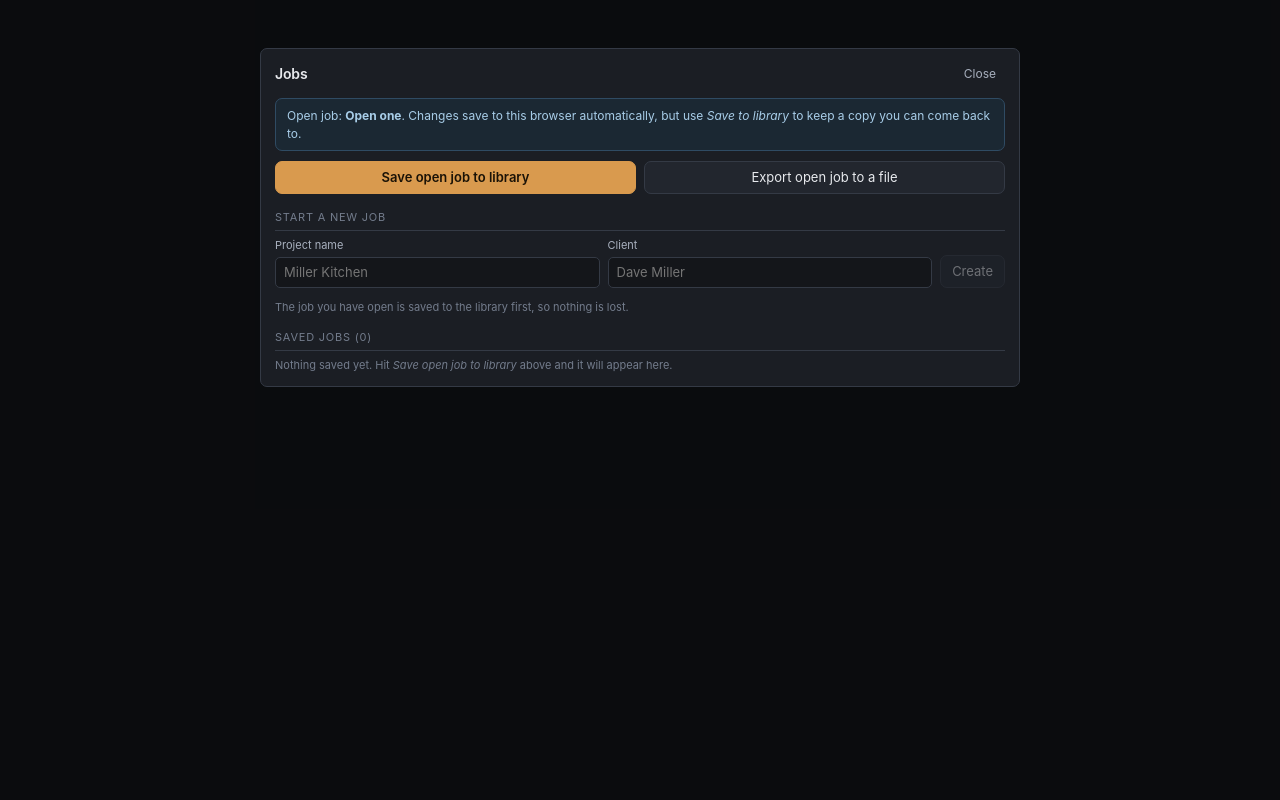
it: JobsPanel › marks the job that is currently open
Click the button "Save open job to library" at (456, 178), box [275, 161, 636, 194]
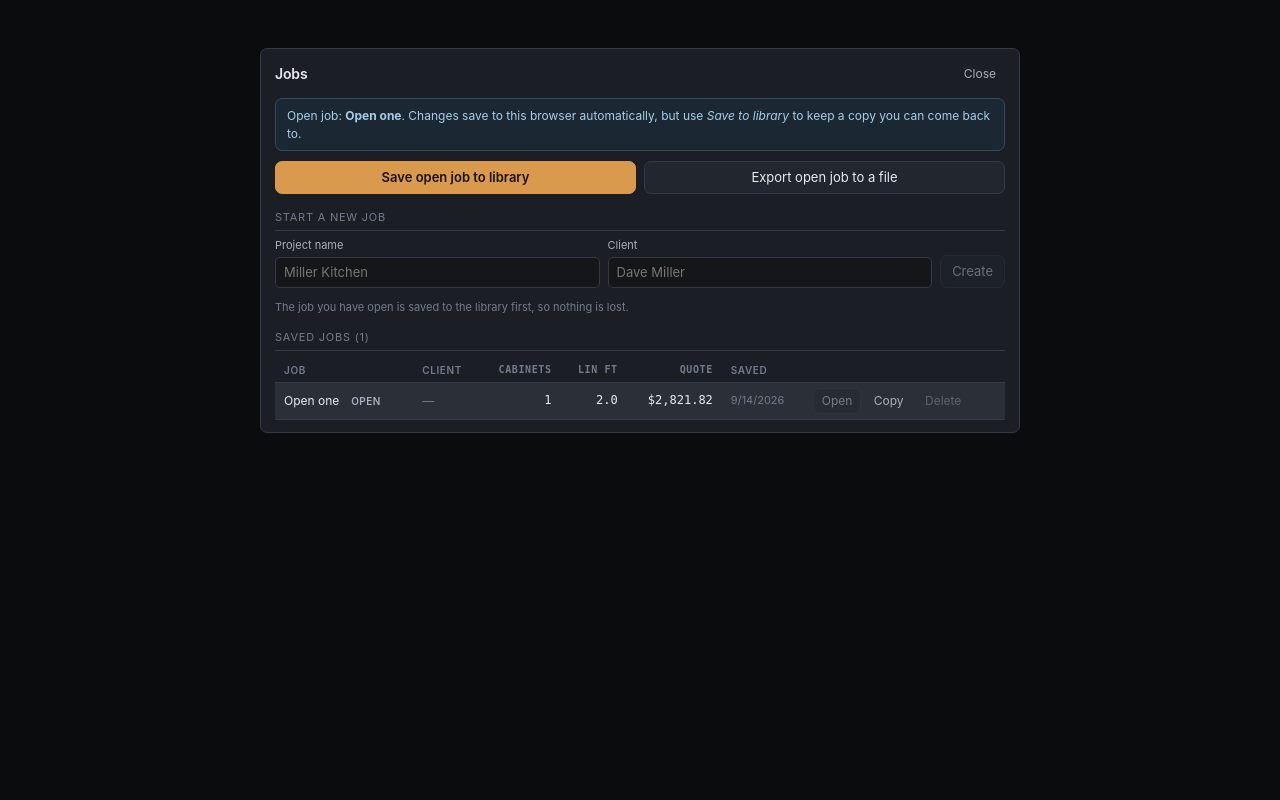
Now the cell "Open one open" is shown, box [275, 383, 413, 419]
Now the button "Open" is disabled, box [813, 388, 861, 414]
Now the button "Delete" is disabled, box [916, 388, 970, 414]
